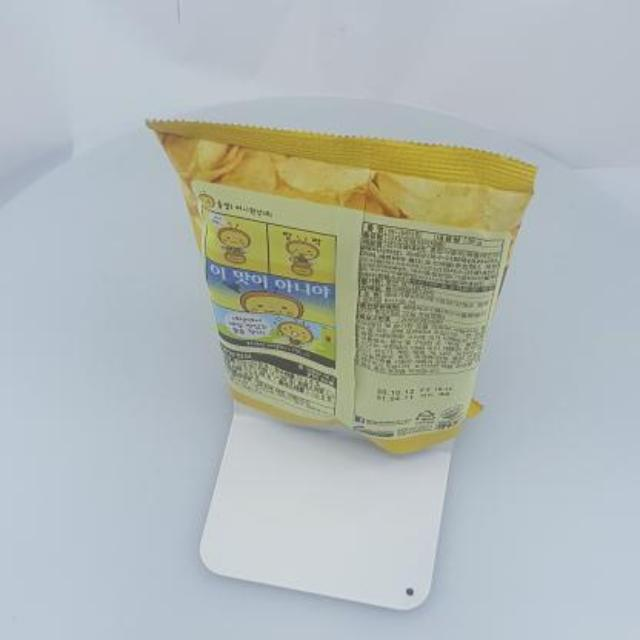snack_bag: (135, 98, 548, 460)
